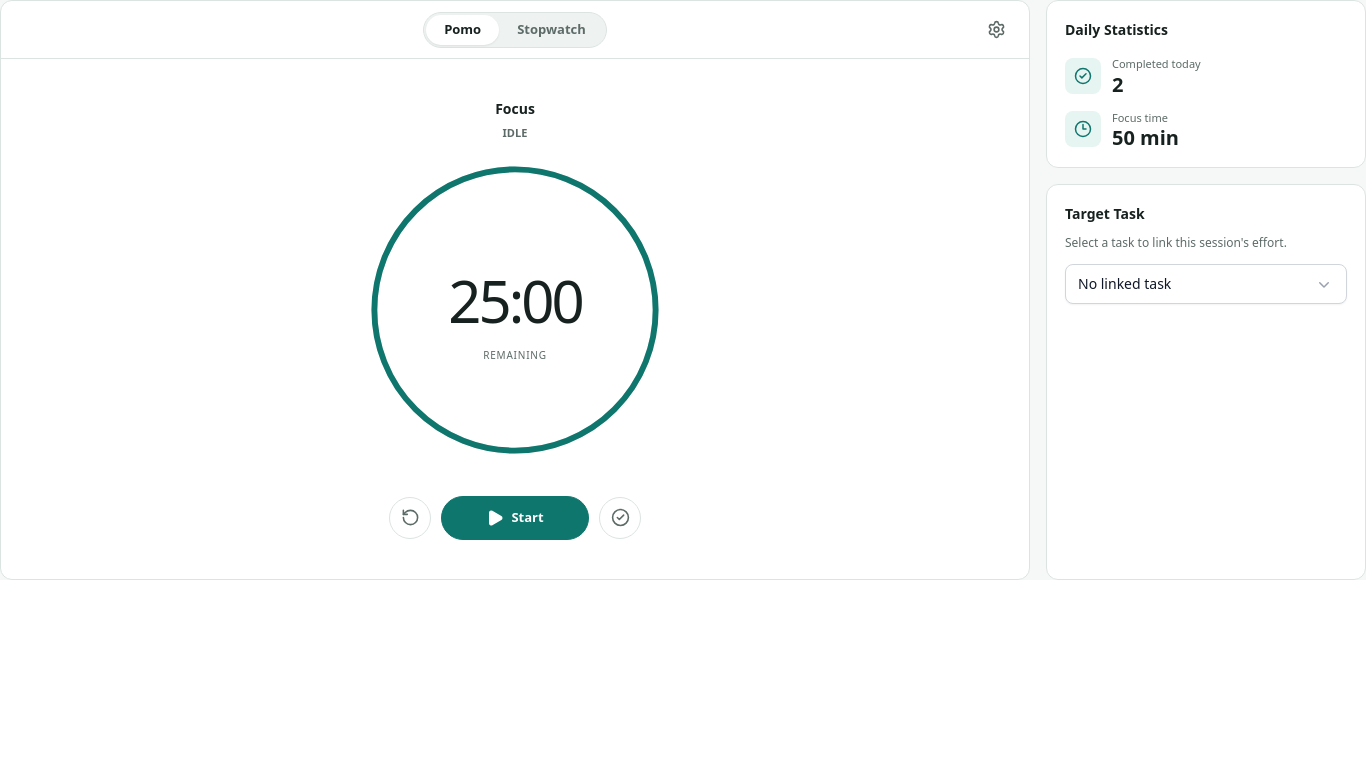
Test: PomodoroPage › keeps Pomo and Stopwatch in one workspace with statistics and task panels on the right
Expected: the heading "Daily Statistics" is shown, x1=1065 y1=20 x2=1168 y2=39
Expected: the heading "Target Task" is shown, x1=1065 y1=204 x2=1145 y2=223
Click the button "Stopwatch" at {"x": 552, "y": 30}, box x1=499 y1=14 x2=604 y2=44
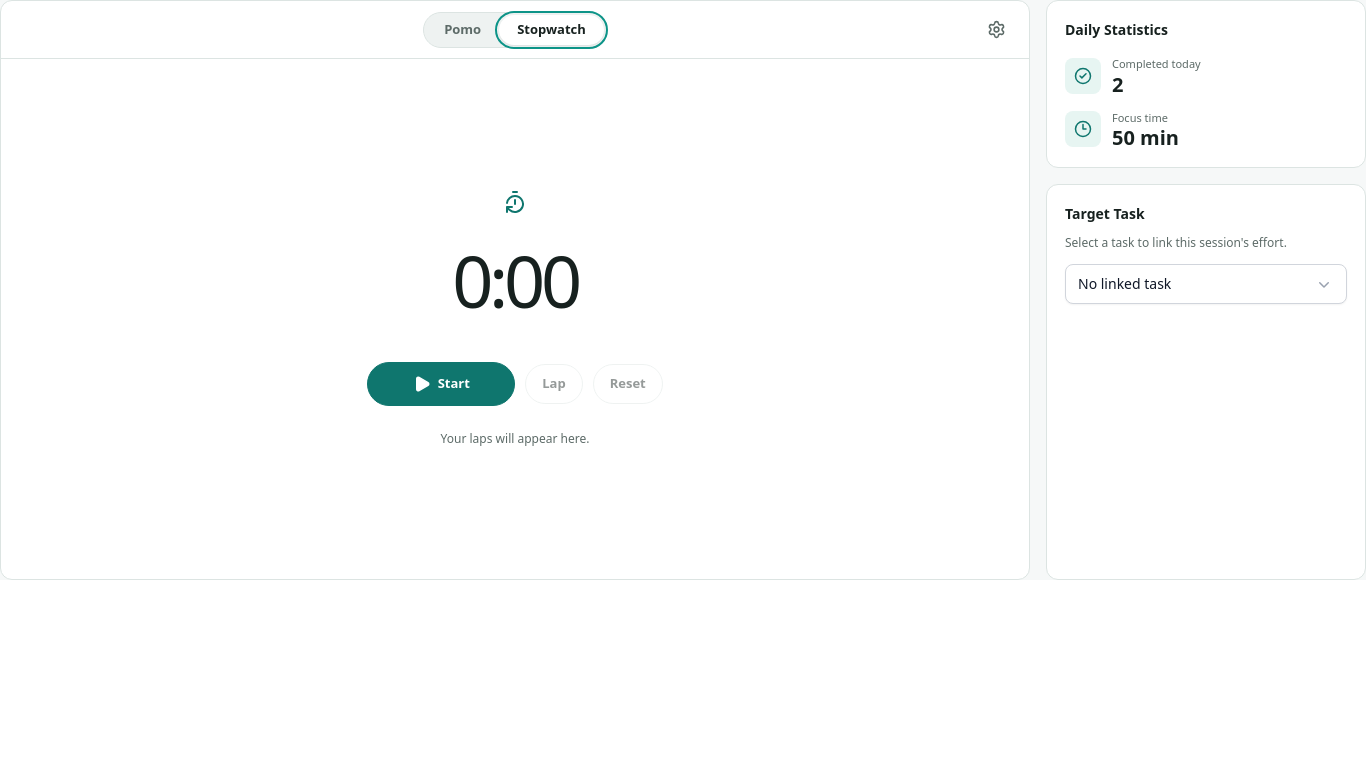
Result: the text with test id "stopwatch-time" reads "0:00" at x1=452 y1=231 x2=578 y2=329
Click the button with aria-label "Start stopwatch" at {"x": 441, "y": 384}, box x1=367 y1=362 x2=515 y2=406
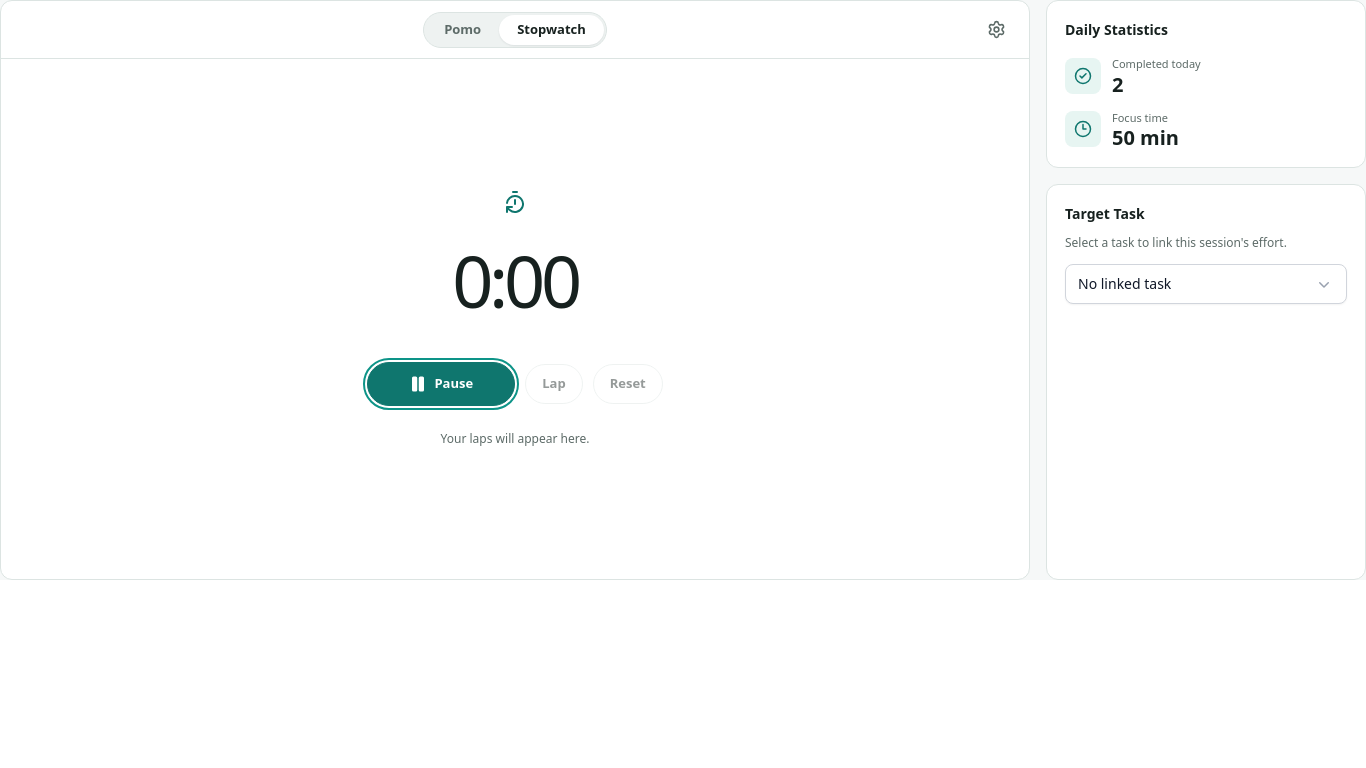
Result: the button with aria-label "Pause stopwatch" is shown at x1=367 y1=362 x2=515 y2=406
Click the button "Pomo" at {"x": 463, "y": 30}, box x1=426 y1=14 x2=499 y2=44
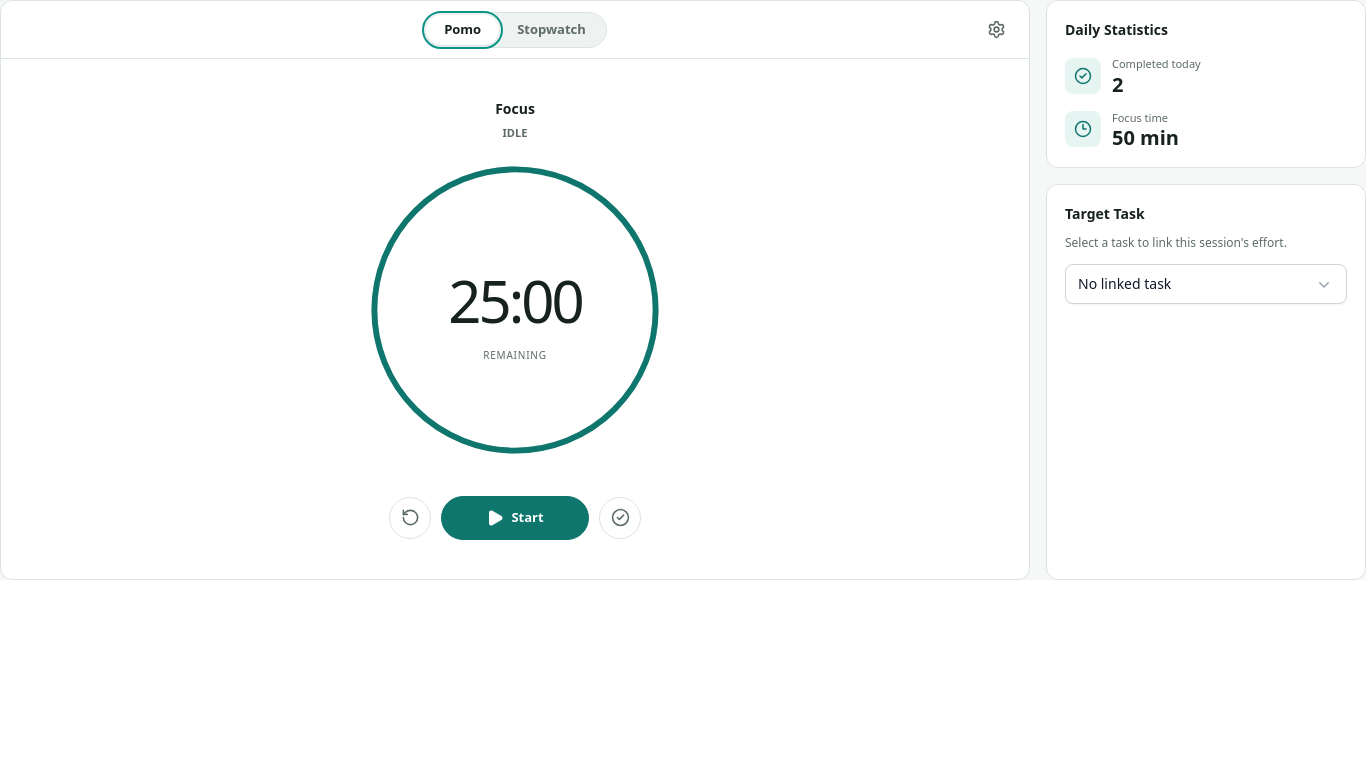
Click the button "Stopwatch" at {"x": 552, "y": 30}, box x1=499 y1=14 x2=604 y2=44
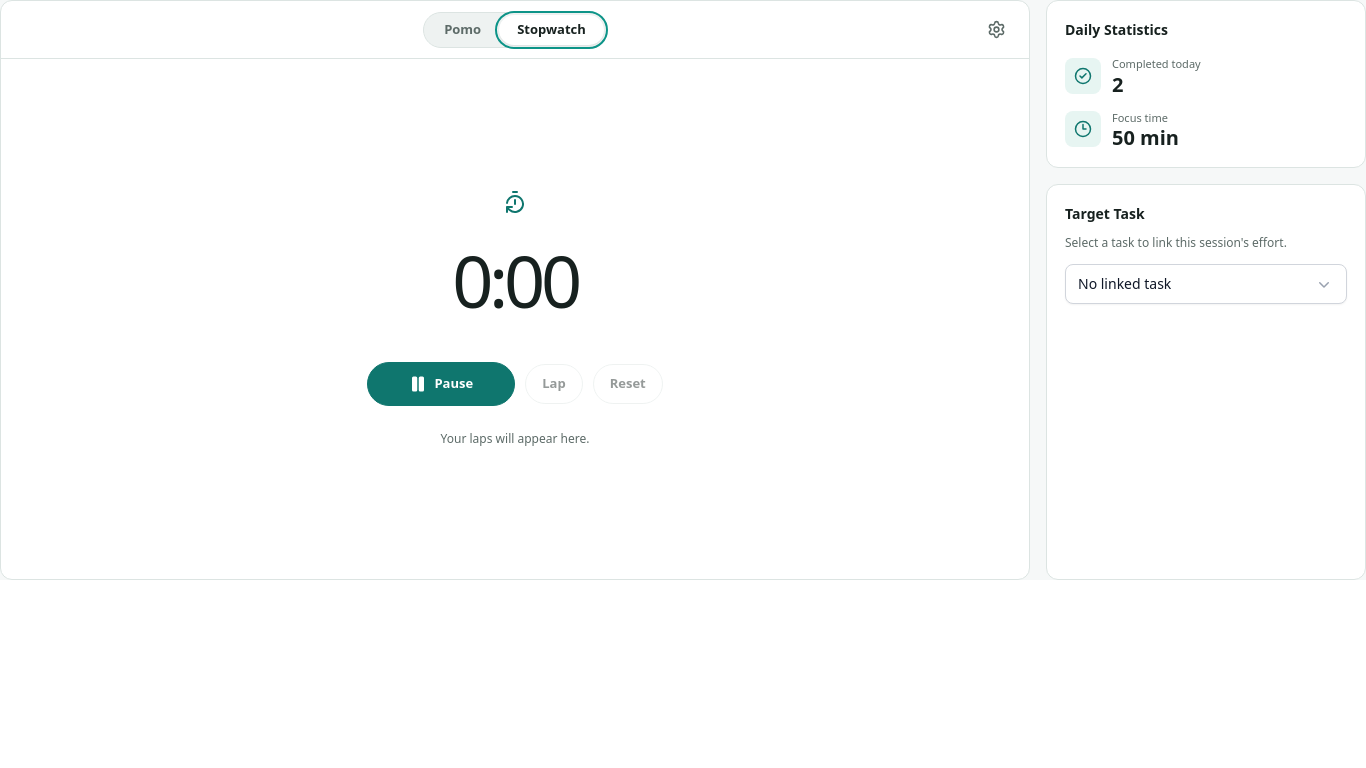
Result: the button with aria-label "Pause stopwatch" is shown at x1=367 y1=362 x2=515 y2=406
